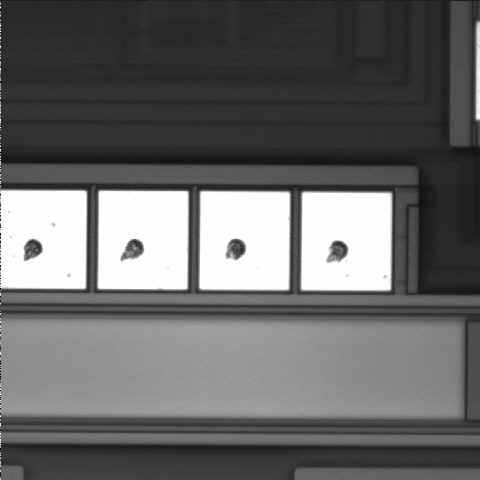pad: (199, 191, 290, 290), (301, 192, 392, 290), (98, 191, 188, 289)
